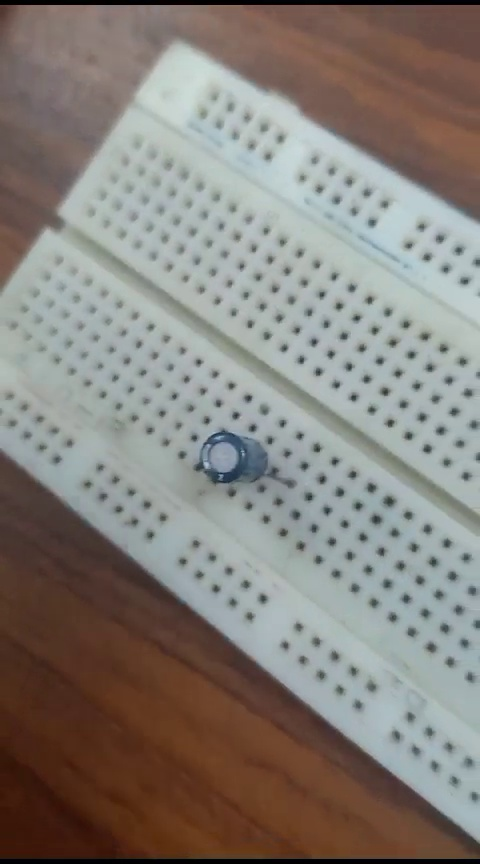capacitor: (190, 423, 298, 493)
